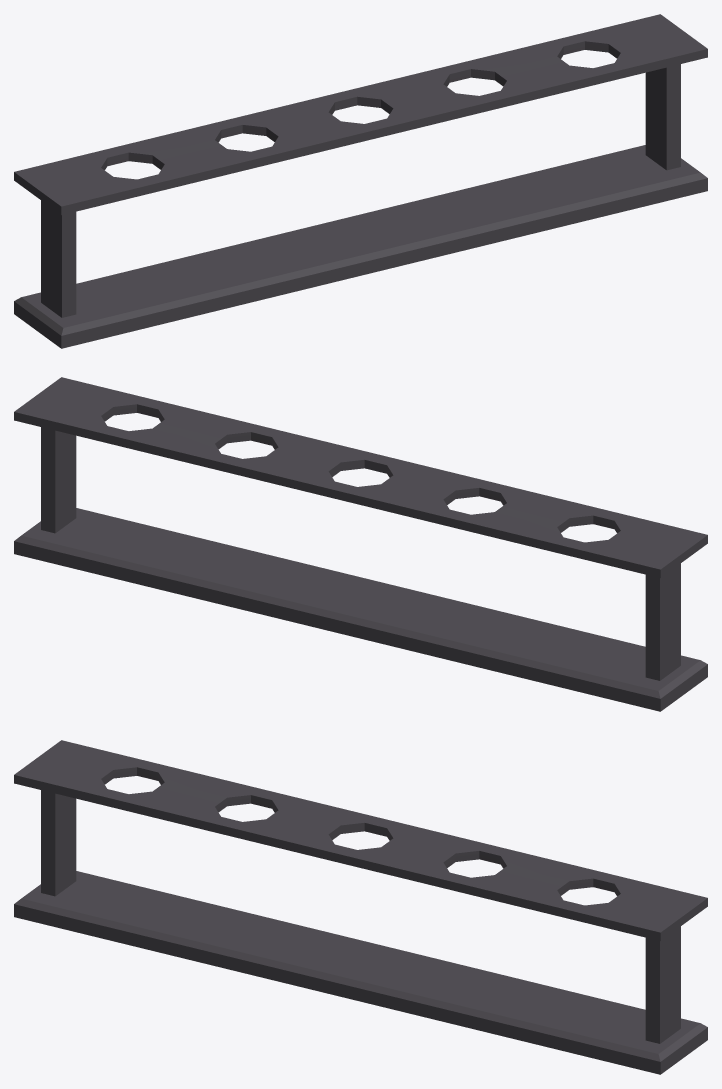
Rendered from SM_Props_Laboratory_20.fbx.
3 views of the same model, one above another, from view 1: azimuth 30°, elevation 25°; view 2: azimuth 150°, elevation 25°; view 3: azimuth 330°, elevation 25° (orthographic).
Visible parts, largest first — view 1: SM_Props_Laboratory_20; view 2: SM_Props_Laboratory_20; view 3: SM_Props_Laboratory_20.
Part boxes in pixels (box(x1,y1,x2,y2)): SM_Props_Laboratory_20: box(14, 14, 707, 348); SM_Props_Laboratory_20: box(14, 377, 707, 711); SM_Props_Laboratory_20: box(14, 740, 707, 1074).
Bounding box in the file's own units: 0.404 × 0.0849 × 0.0514.
